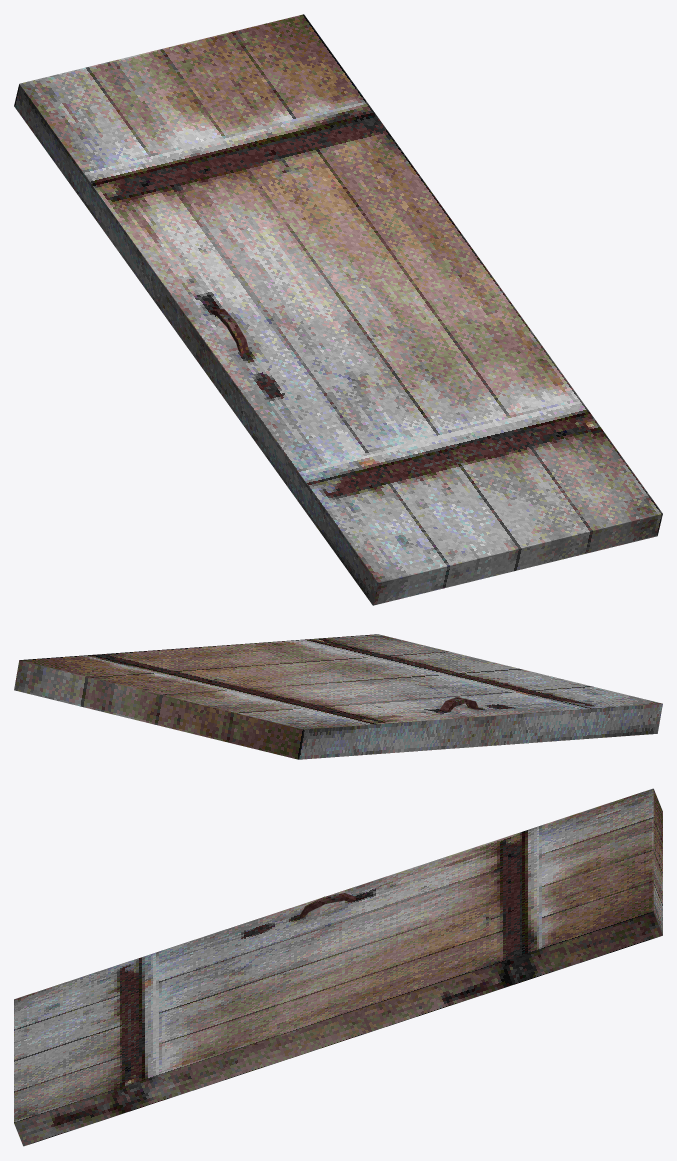
Rendered from door-cellarR.glb.
The picture shows the model from 3 angles, top to bottom: view 1: azimuth 30°, elevation 25°; view 2: azimuth 150°, elevation 25°; view 3: azimuth 270°, elevation 25°; orthographic projection. The views are drawn at different scales.
Parts seen in each view (by area): view 1: door-cellarR.002; view 2: door-cellarR.002; view 3: door-cellarR.002.
Boxes of the visible parts, x1=… form: door-cellarR.002: x1=14, y1=14, x2=662, y2=605; door-cellarR.002: x1=14, y1=634, x2=662, y2=759; door-cellarR.002: x1=14, y1=788, x2=662, y2=1146.
Bounding box in the file's own units: 0.8931 × 0.7886 × 1.98.
Materials: 1 (1 with a texture image).
